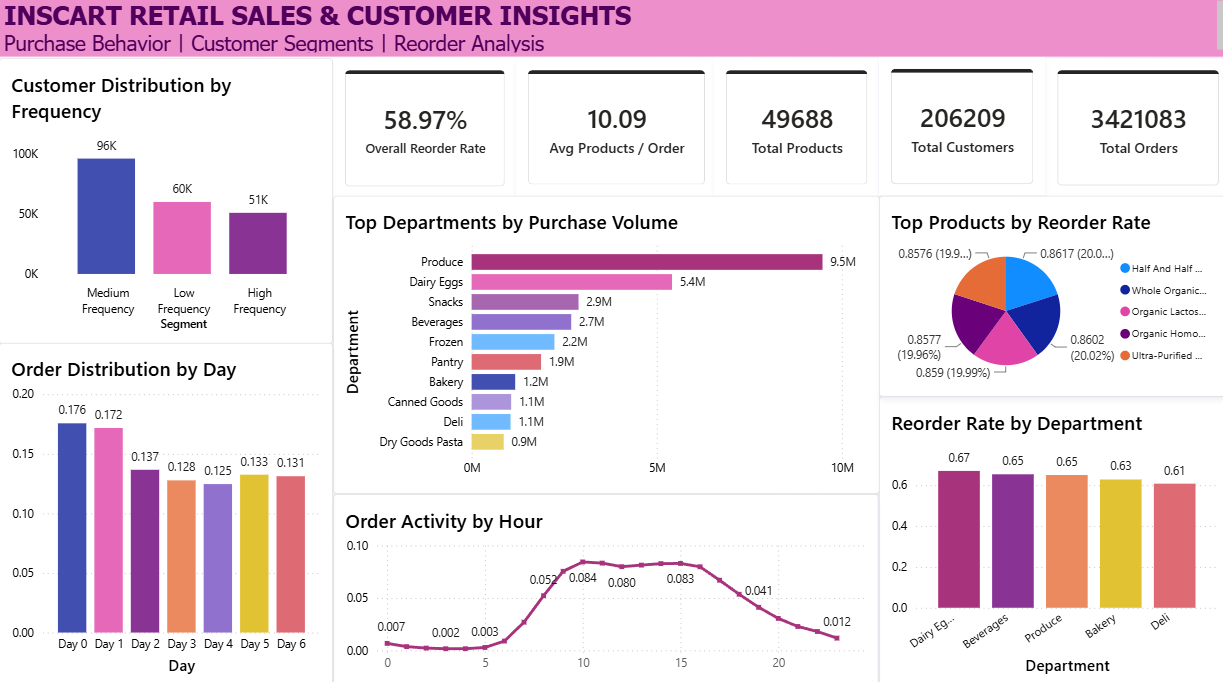

This screenshot's page, from the dashboard's own definition file:
{"tool":"powerbi","page":{"name":"Page 1","canvas":[1280,720],"ordinal":0},"visuals":[{"type":"cardVisual","fields":{"Data":["Min(KPI_Summary.Column2)"]},"box":[346.7,65,190,145],"z":0},{"type":"cardVisual","fields":{"Data":["Min(KPI_Summary.Column2)"]},"box":[536.7,65,208.3,143.3],"z":1000},{"type":"cardVisual","fields":{"Data":["Min(KPI_Summary.Column2)"]},"box":[1087.1,65.7,192.9,144.3],"z":2000},{"type":"cardVisual","fields":{"Data":["Min(KPI_Summary.Column2)"]},"box":[743.3,65,171.7,143.3],"z":3000},{"type":"cardVisual","fields":{"Data":["Min(KPI_Summary.Column2)"]},"box":[914.3,64.3,172.9,144.3],"z":4000},{"type":"clusteredColumnChart","title":"Customer Distribution by Frequency","fields":{"Category":["Customer_Segments.Segment"],"Y":["Sum(Customer_Segments.Customers)"]},"box":[0,65,346.7,296.7],"z":5000},{"type":"clusteredBarChart","title":"Top Departments by Purchase Volume","fields":{"Y":["Sum(Department_Purchases.Purchases)"],"Category":["Department_Purchases.Department"]},"box":[346.7,208.3,568.3,310],"z":6000},{"type":"clusteredColumnChart","title":"Reorder Rate by Department","fields":{"Category":["Department_Reorder.Department"],"Y":["Sum(Department_Reorder.Reorder Rate)"]},"box":[914.3,417.1,365.7,302.9],"z":7000},{"type":"lineChart","title":"Order Activity by Hour","fields":{"Y":["Avg(Orders_By_Hour.Orders_Pct)"],"Category":["Orders_By_Hour.Hour"]},"box":[346.7,518.3,566.7,201.7],"z":8000},{"type":"clusteredColumnChart","title":"Order Distribution by Day","fields":{"Category":["Orders_By_Day.Day"],"Y":["Sum(Orders_By_Day.Orders_Pct)"]},"box":[0,361.7,346.7,358.3],"z":9000},{"type":"pieChart","title":"Top Products by Reorder Rate","fields":{"Category":["Product_Reorder.Product"],"Y":["Avg(Product_Reorder.Reorder Rate)"]},"box":[914.3,208.6,365.7,208.6],"z":10000},{"type":"textbox","box":[217.9,0,717.9,12.6],"z":11000},{"type":"textbox","box":[0,0,1278.6,64.3],"z":12001}]}

Visuals, with their boxes in screenshot pixels (x1, y1, x2, y2), scaled from the page's 1280x720 canvas onto the 1223x682 screenshot:
cardVisual - Min(KPI_Summary.Column2): crop(331, 62, 513, 199)
cardVisual - Min(KPI_Summary.Column2): crop(513, 62, 712, 197)
cardVisual - Min(KPI_Summary.Column2): crop(1039, 62, 1222, 199)
cardVisual - Min(KPI_Summary.Column2): crop(710, 62, 874, 197)
cardVisual - Min(KPI_Summary.Column2): crop(874, 61, 1039, 198)
"Customer Distribution by Frequency" clusteredColumnChart: crop(0, 62, 331, 343)
"Top Departments by Purchase Volume" clusteredBarChart: crop(331, 197, 874, 491)
"Reorder Rate by Department" clusteredColumnChart: crop(874, 395, 1222, 681)
"Order Activity by Hour" lineChart: crop(331, 491, 873, 681)
"Order Distribution by Day" clusteredColumnChart: crop(0, 343, 331, 681)
"Top Products by Reorder Rate" pieChart: crop(874, 198, 1222, 395)
textbox: crop(208, 0, 894, 12)
textbox: crop(0, 0, 1222, 61)
